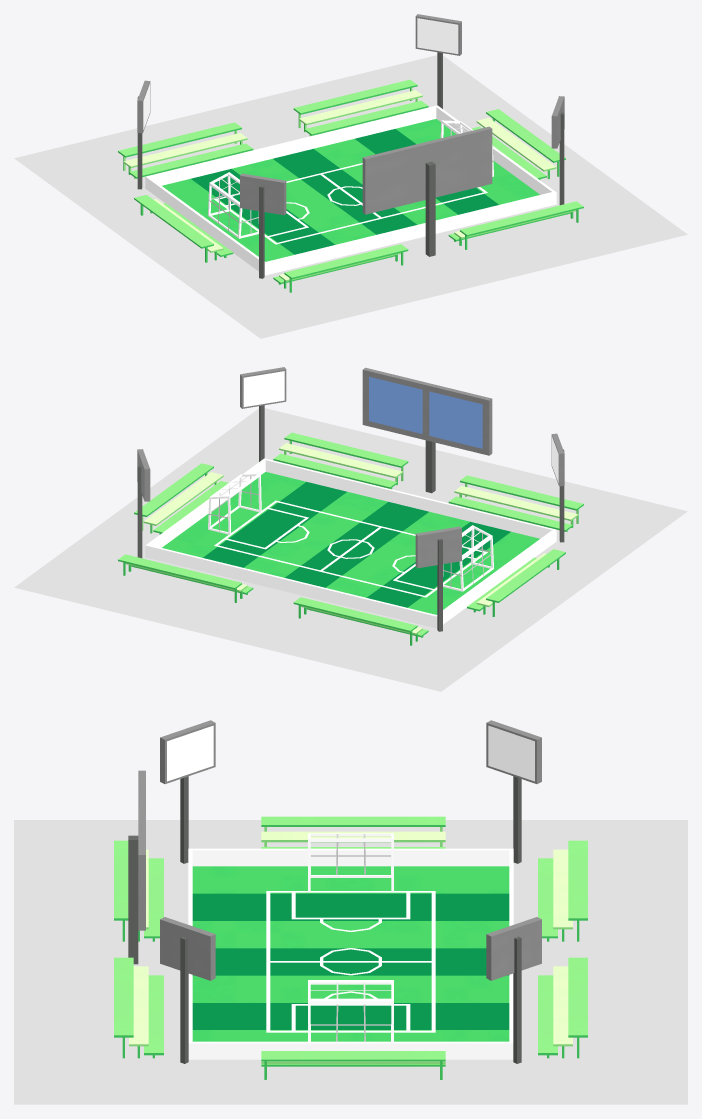
The model's file is stadiums.glb.
3 renders of one model, top to bottom at view 1: azimuth 30°, elevation 25°; view 2: azimuth 150°, elevation 25°; view 3: azimuth 270°, elevation 25°, orthographic. The views are drawn at different scales.
Visible parts, largest first — view 1: stadiums(Clone); view 2: stadiums(Clone); view 3: stadiums(Clone).
Part boxes in pixels (left/top/right/bottom): stadiums(Clone): left=14, top=14, right=687, bottom=338; stadiums(Clone): left=14, top=367, right=687, bottom=691; stadiums(Clone): left=14, top=720, right=687, bottom=1104.
Bounding box in the file's own units: 16 × 4.03 × 16.
1 material, 1 textured.
